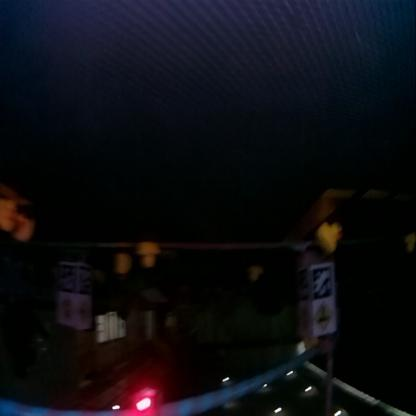Duckie: (317, 223, 341, 252), (136, 243, 158, 268), (405, 236, 415, 250)
Intersection sign: (313, 302, 333, 332)
QR code: (312, 266, 334, 296), (58, 266, 76, 294), (78, 266, 92, 296)
Traffic light: (132, 388, 156, 416)
